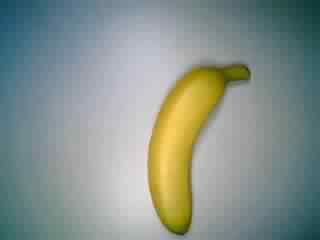banana: (144, 61, 251, 237)
